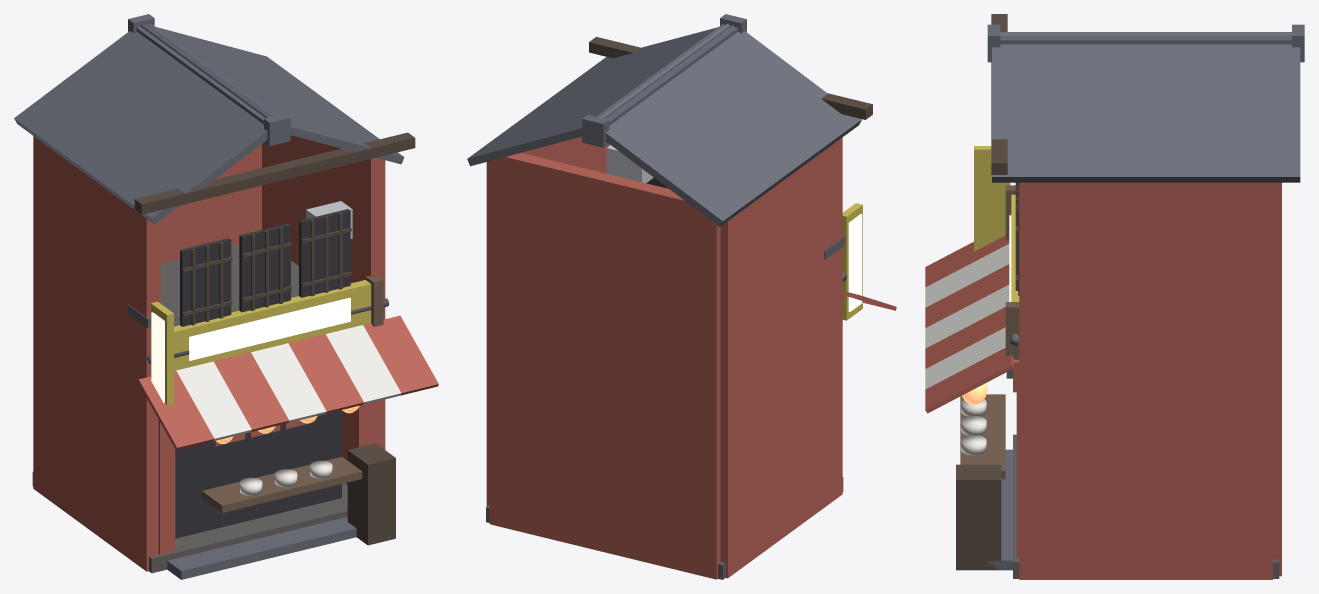
Rendered from prop_shop_ramen.glb.
The picture shows the model from 3 angles, left to right: view 1: azimuth 30°, elevation 25°; view 2: azimuth 150°, elevation 25°; view 3: azimuth 270°, elevation 25°; orthographic projection. The views are drawn at different scales.
Parts seen in each view (by area): view 1: shop_ramen; view 2: shop_ramen; view 3: shop_ramen.
Boxes of the visible parts, x1=… form: shop_ramen: x1=14, y1=14, x2=438, y2=579; shop_ramen: x1=467, y1=14, x2=896, y2=579; shop_ramen: x1=925, y1=14, x2=1304, y2=579.
Size of the model in its own units: 3.9 by 5.9 by 4.19.
